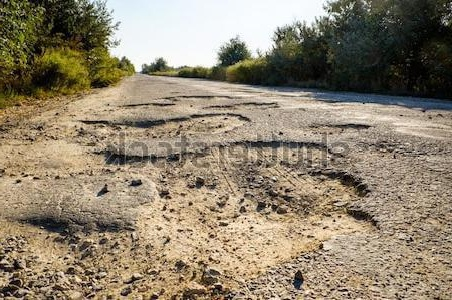pothole: (138, 138, 384, 300), (69, 110, 250, 144), (159, 92, 239, 113), (203, 98, 281, 111), (305, 119, 372, 134)
